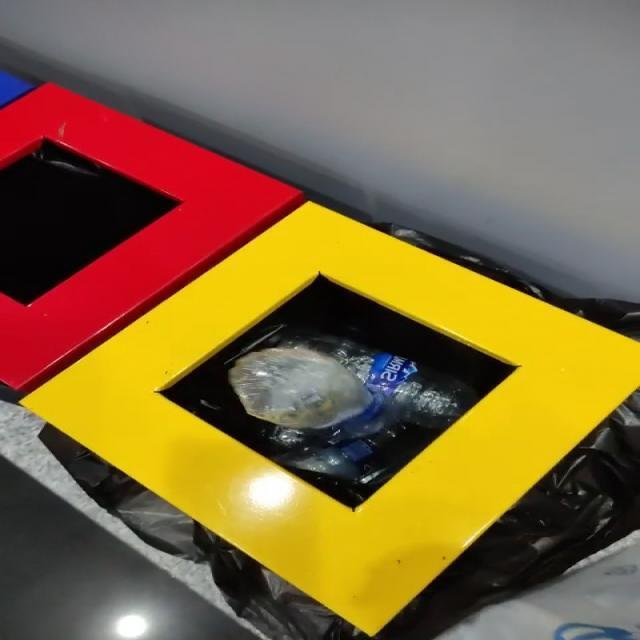Plastic: (228, 331, 477, 479)
